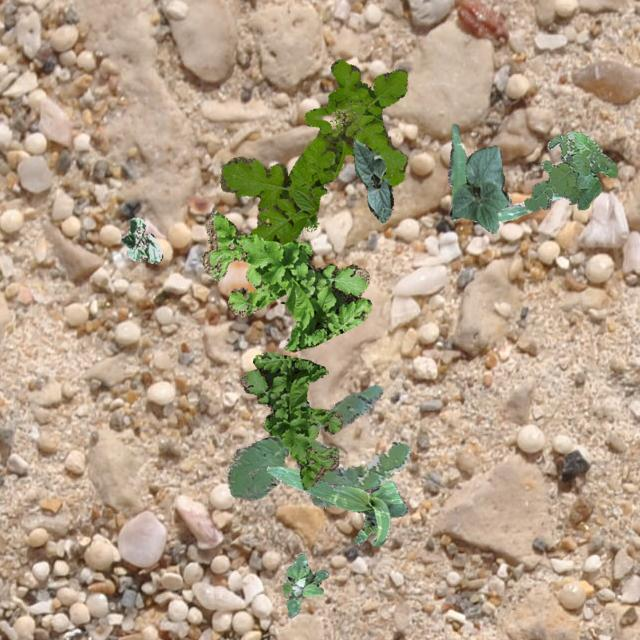crop: (446, 122, 562, 220), (266, 466, 408, 546), (448, 144, 511, 232), (352, 138, 392, 222), (120, 216, 162, 262)
weed: (218, 58, 406, 245), (200, 210, 370, 350), (226, 384, 410, 506), (240, 351, 342, 488), (524, 130, 616, 210), (282, 552, 328, 616)
